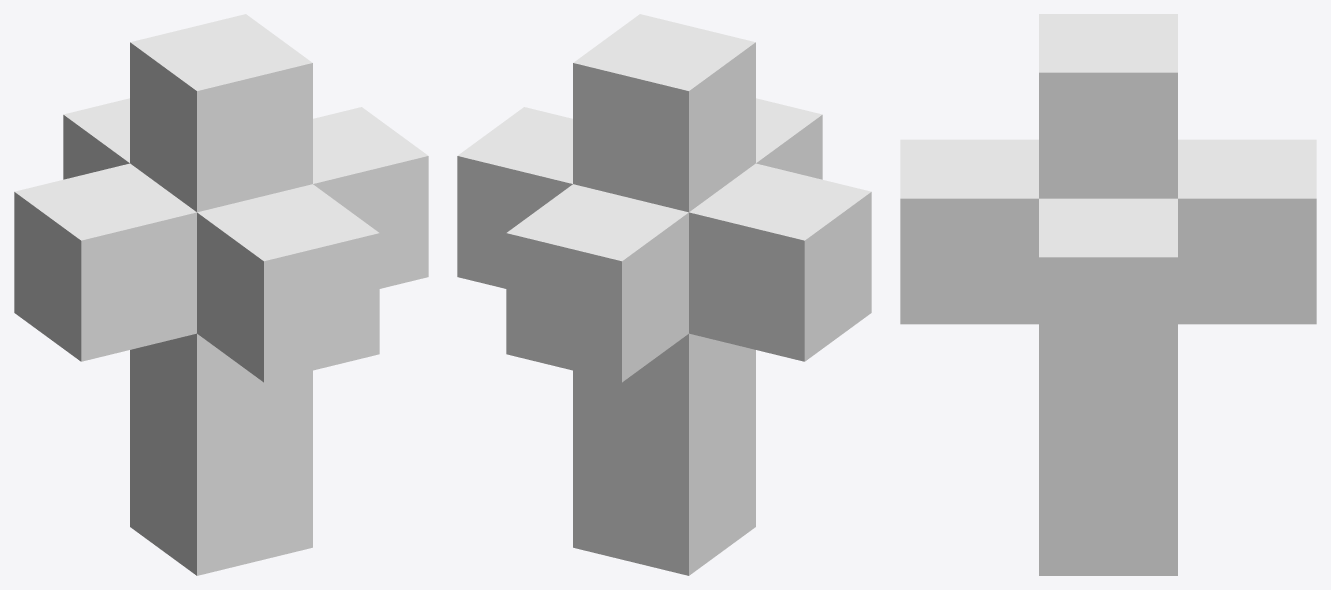
File: cursor2.obj
3 renders of one model, left to right at view 1: azimuth 30°, elevation 25°; view 2: azimuth 150°, elevation 25°; view 3: azimuth 270°, elevation 25°, orthographic. The views are drawn at different scales.
Bounding box in the file's own units: 0.3 × 0.4 × 0.3.
Materials: 1 (1 with a texture image).
